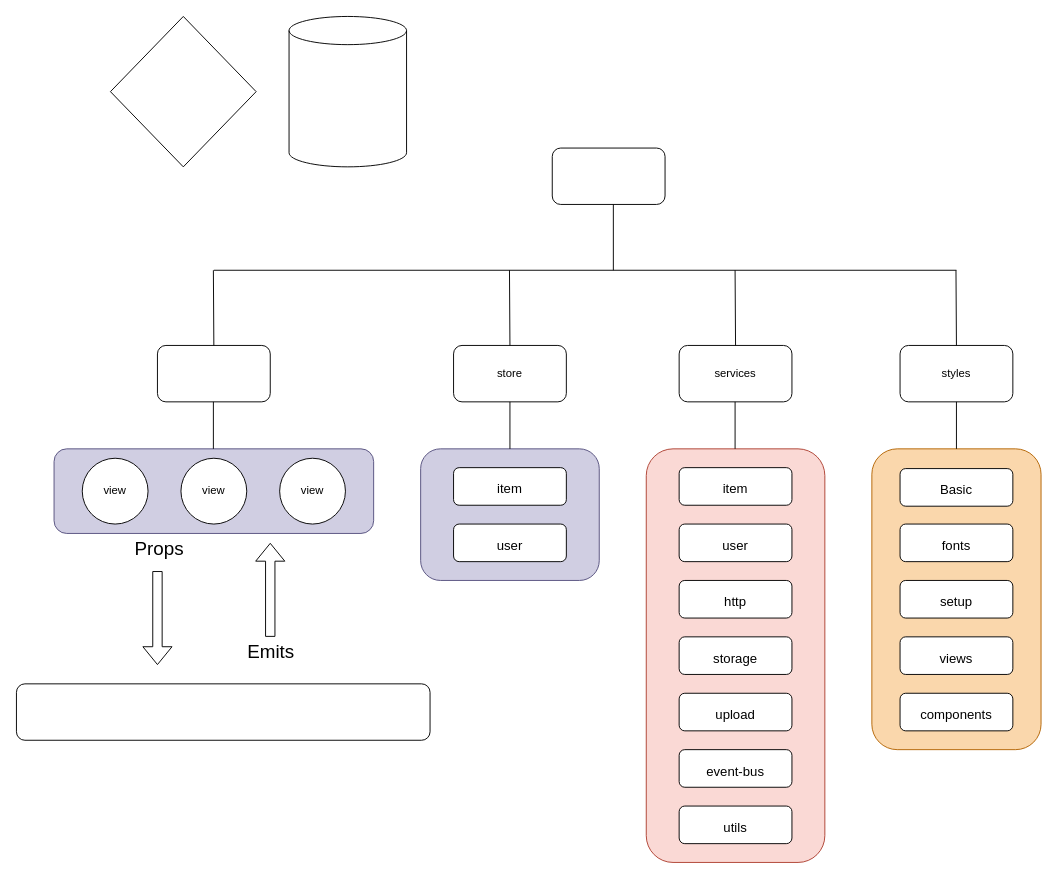
Image size: 1058x879. Some labels were removed from this diagram. The shapes that lost their labels are listed below. From the top down, each one's box as (x1, y1, x2, y2) in pixels, then its label:
(110, 16, 256, 167): Backend
(288, 16, 407, 167): Local storage
(551, 147, 665, 204): Item App
(157, 345, 270, 402): router
(16, 683, 430, 740): Child Components
